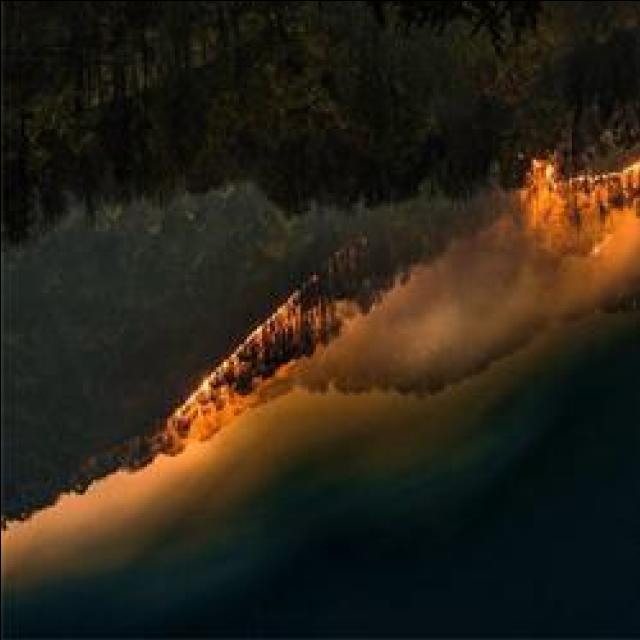smoke: (390, 263, 536, 377), (606, 225, 640, 290)
